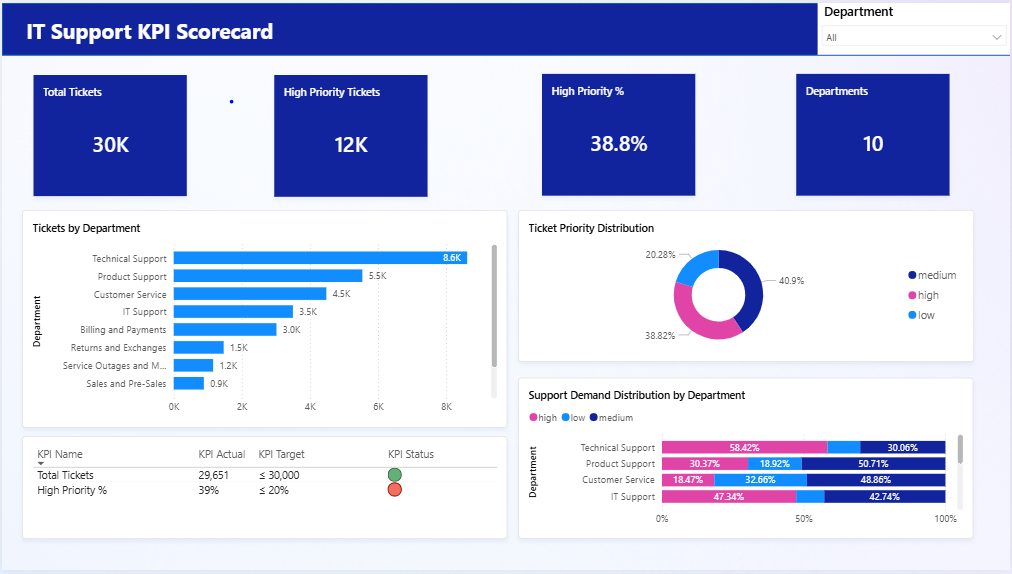

What the dashboard file says about the page in this screenshot:
{"tool":"powerbi","page":{"name":"Page 1","canvas":[1280,720],"ordinal":0},"visuals":[{"type":"card","title":"Total Tickets","fields":{"Values":["MeasuresTable.Total Tickets"]},"box":[39.7,91,195,153.3],"z":0},{"type":"card","title":"High Priority Tickets","fields":{"Values":["MeasuresTable.High Priority Tickets"]},"box":[345.7,91.4,194.3,154.3],"z":1000},{"type":"card","title":"High Priority %","fields":{"Values":["MeasuresTable.High Priority %"]},"box":[686.3,89.3,195,155],"z":2000},{"type":"card","title":"Departments","fields":{"Values":["MeasuresTable.Departments Count"]},"box":[1008,89.3,195,155],"z":3000},{"type":"clusteredBarChart","title":"Tickets by Department","fields":{"Y":["MeasuresTable.Total Tickets"],"Category":["IT Support Ticket Data.Department"]},"box":[25.9,263,616.1,276.5],"z":4000},{"type":"donutChart","title":"Ticket Priority Distribution","fields":{"Category":["IT Support Ticket Data.Priority"],"Y":["MeasuresTable.Total Tickets"]},"box":[655.7,262.9,578.6,192.9],"z":5000},{"type":"shape","box":[0,0,1280,66.7],"z":6000},{"type":"textbox","box":[25,11.7,385,78.3],"z":7000},{"type":"hundredPercentStackedBarChart","title":"Support Demand Distribution by Department","fields":{"Category":["IT Support Ticket Data.Department"],"Y":["MeasuresTable.Total Tickets"],"Series":["IT Support Ticket Data.Priority"]},"box":[655.3,476.3,578,204.8],"z":8000},{"type":"slicer","fields":{"Values":["IT Support Ticket Data.Department"]},"box":[1035,0,245,65.4],"z":9000},{"type":"tableEx","fields":{"Values":["KPI_List.KPI Name","MeasuresTable.KPI Actual","MeasuresTable.KPI Target","MeasuresTable.KPI Status"]},"box":[25.9,549.4,616.1,130.9],"z":10000}]}

Visuals, with their boxes in screenshot pixels (x1, y1, x2, y2), scaled from the page's 1280x720 canvas onto the 1012x574 screenshot:
"Total Tickets" card: box=[31, 73, 186, 195]
"High Priority Tickets" card: box=[273, 73, 427, 196]
"High Priority %" card: box=[543, 71, 697, 195]
"Departments" card: box=[797, 71, 951, 195]
"Tickets by Department" clusteredBarChart: box=[20, 210, 508, 430]
"Ticket Priority Distribution" donutChart: box=[518, 210, 976, 363]
shape: box=[0, 0, 1011, 53]
textbox: box=[20, 9, 324, 72]
"Support Demand Distribution by Department" hundredPercentStackedBarChart: box=[518, 380, 975, 543]
slicer - IT Support Ticket Data.Department: box=[818, 0, 1011, 52]
tableEx - KPI_List.KPI Name x MeasuresTable.KPI Actual: box=[20, 438, 508, 542]
